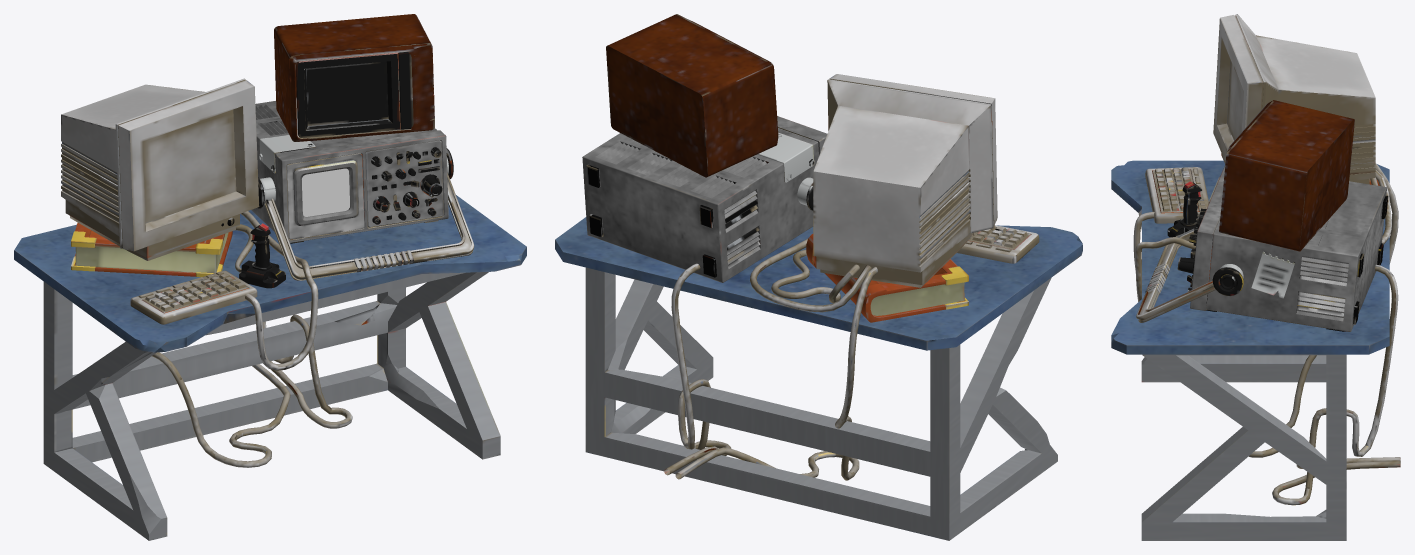
The model's file is table isled.fbx.
The picture shows the model from 3 angles, left to right: view 1: azimuth 30°, elevation 25°; view 2: azimuth 150°, elevation 25°; view 3: azimuth 270°, elevation 25°; orthographic projection. The views are drawn at different scales.
Visible parts, largest first — view 1: Cube.004, Cube.017, Cube.032, Cube.028; view 2: Cube.004; view 3: Cube.004, Cube.028.
Boxes of the visible parts, x1,y1,x2,y2 form: Cube.004: [14, 14, 526, 540]; Cube.017: [302, 168, 349, 216]; Cube.032: [239, 260, 285, 288]; Cube.028: [250, 223, 270, 267]; Cube.004: [555, 14, 1082, 540]; Cube.004: [1111, 14, 1400, 540]; Cube.028: [1182, 181, 1202, 223].
Bounding box in the file's own units: 533 × 506 × 353.
